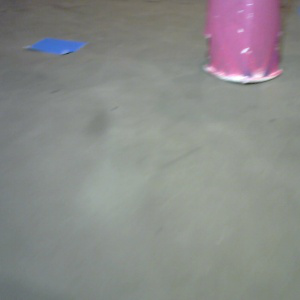right: (201, 1, 286, 86)
